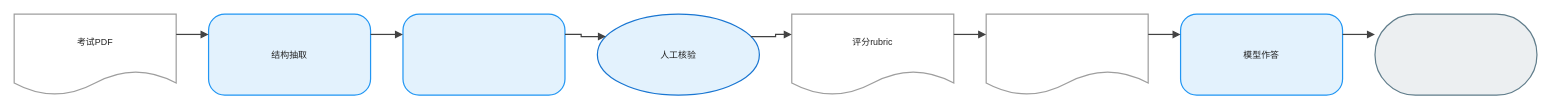
Image size: 1552x110. Some labels were removed from this diagram. The shapes that lost their labels are listed below. From the top down, each one's centre as x and y in pixels, then its label:
At point 483,54: "题解匹配".
At point 1066,54: "小题集合".
At point 1455,54: "奖牌分数".
